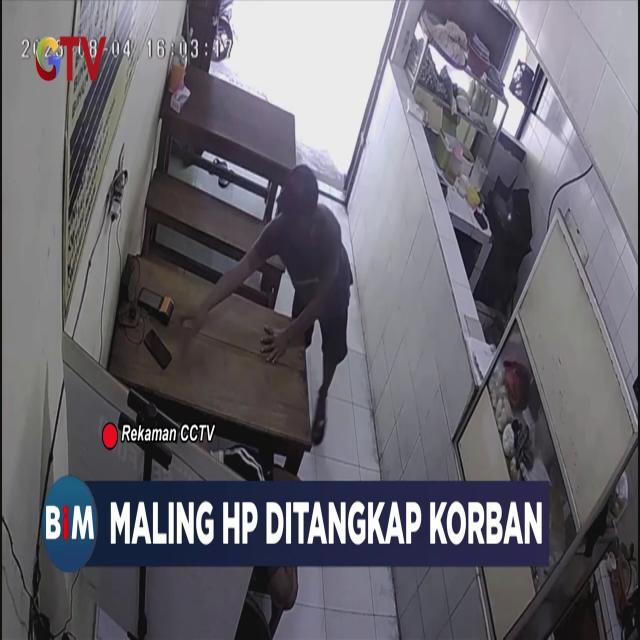pencurian: (148, 162, 354, 447)
